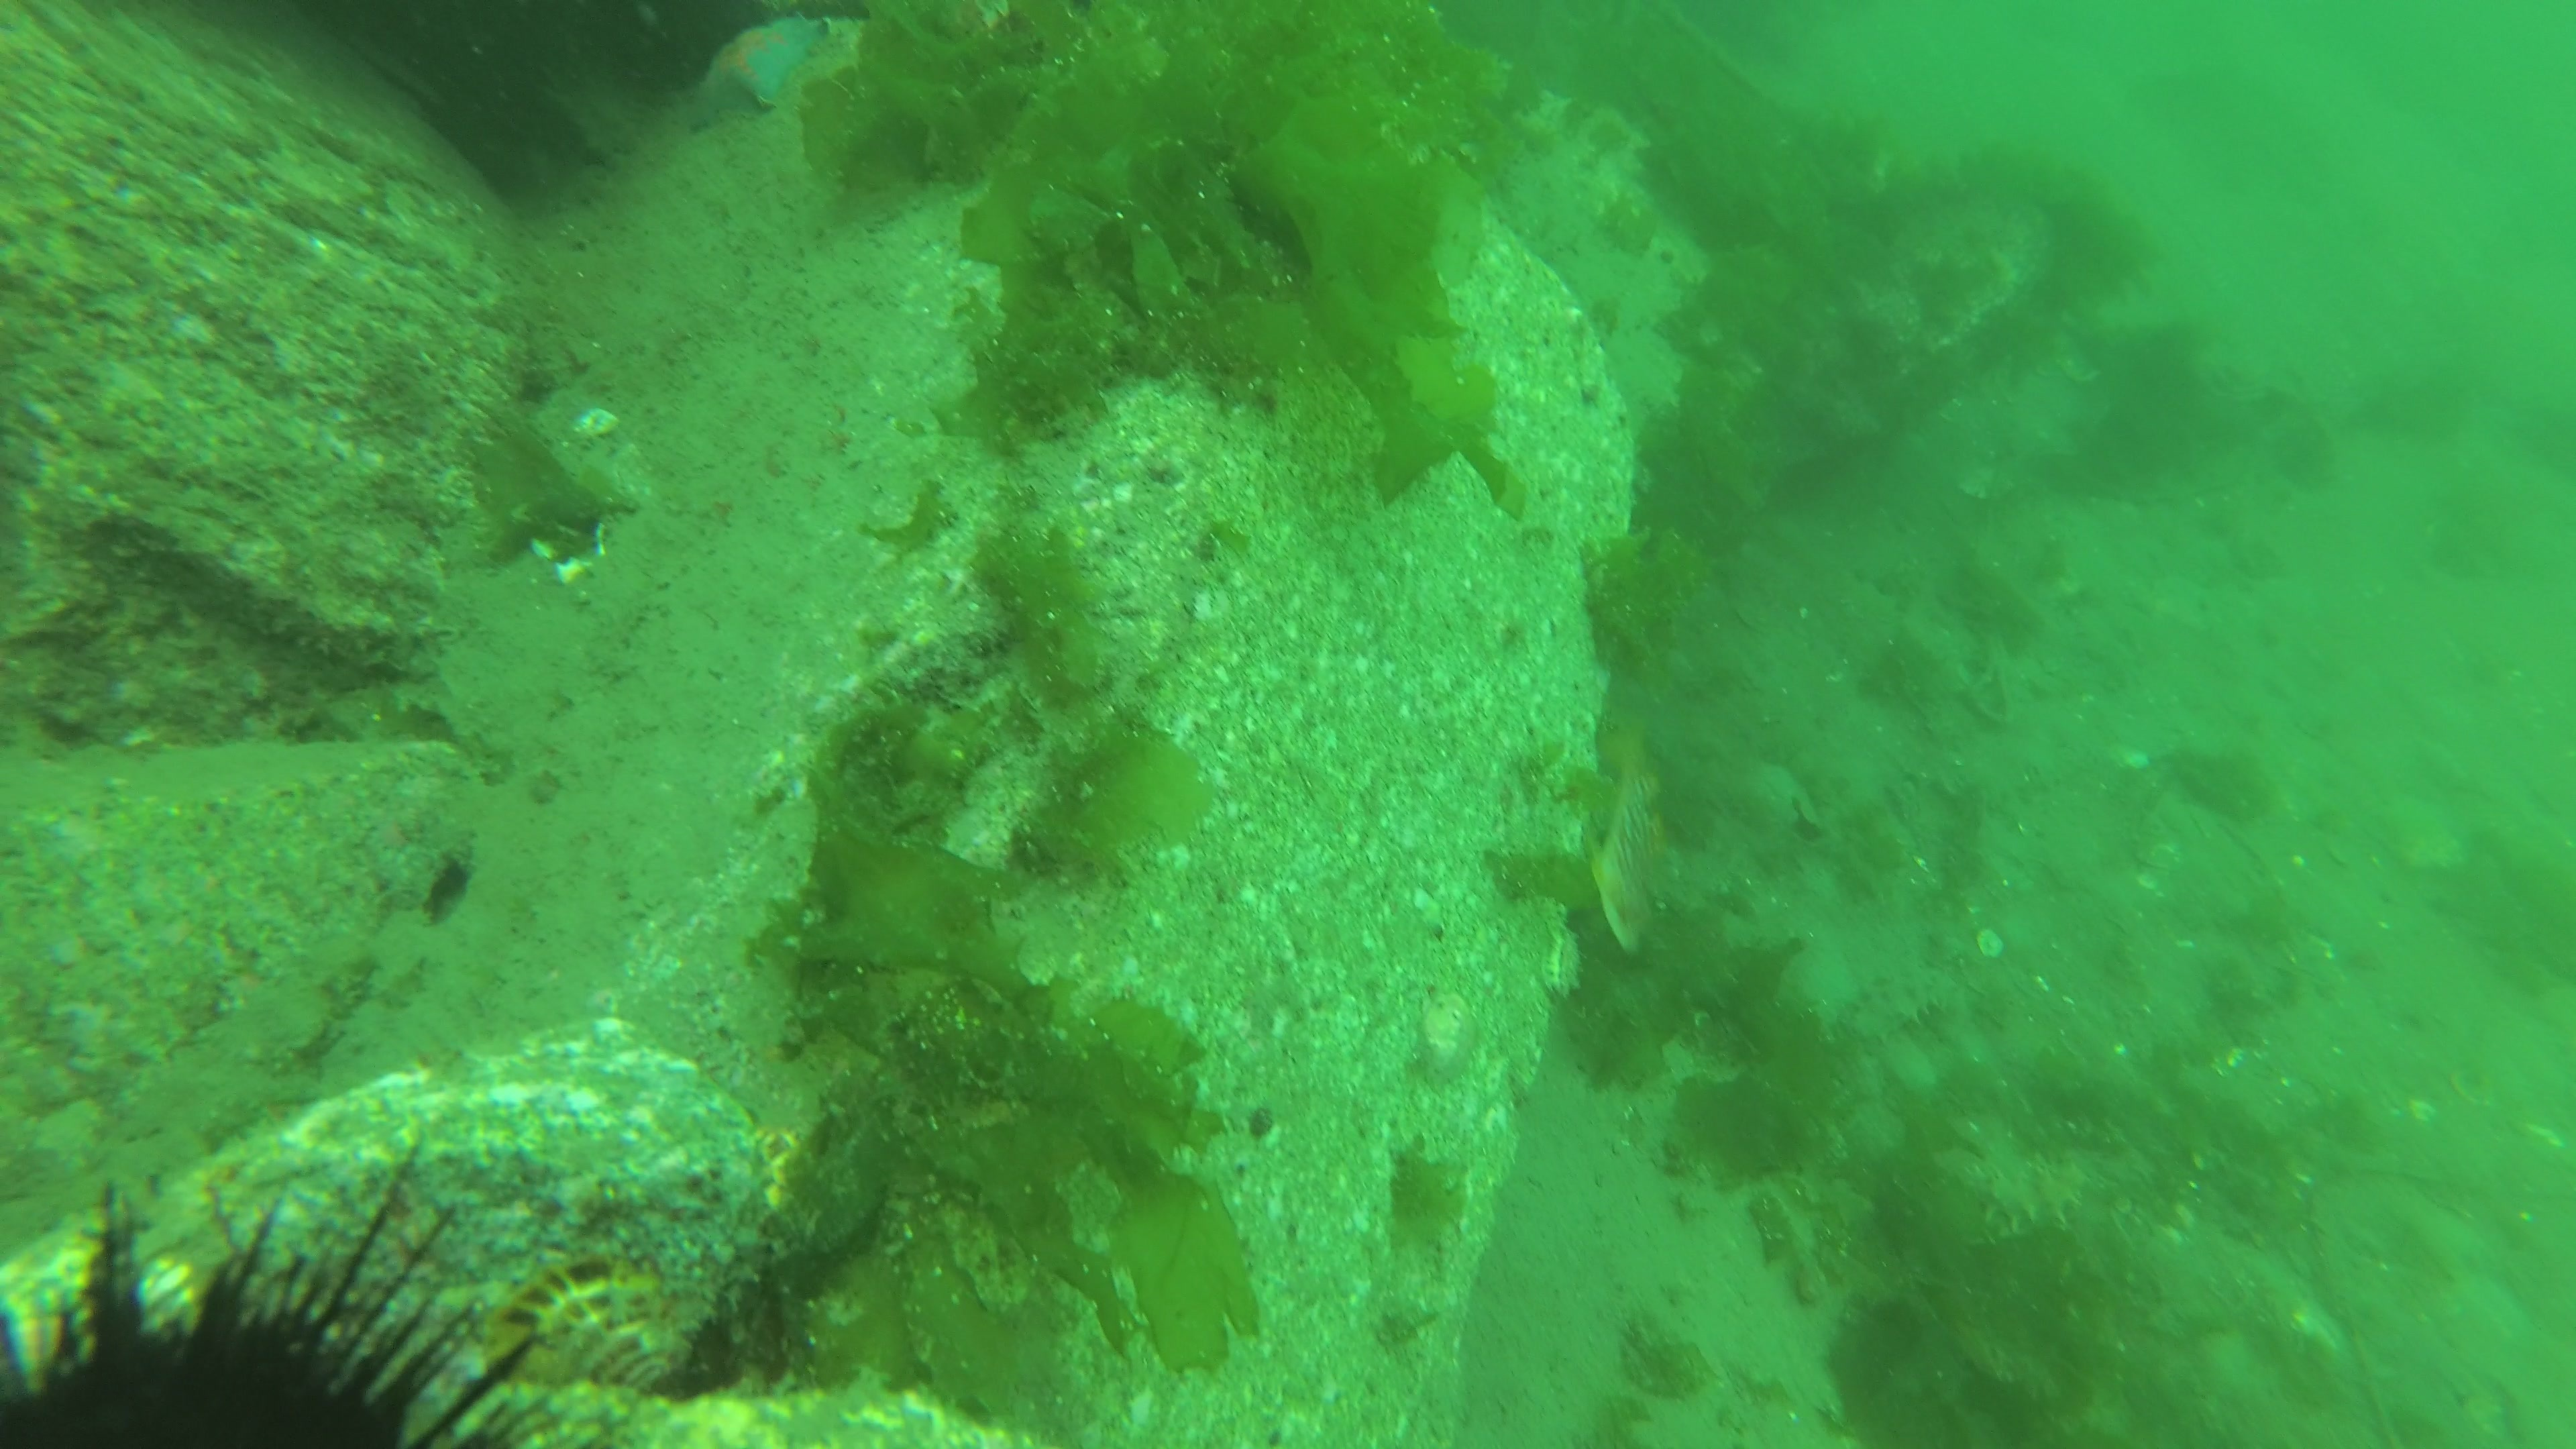echinus: (2, 1148, 566, 1449)
holothurian: (1969, 1150, 2097, 1233), (1849, 966, 1962, 1046)
starfish: (686, 9, 839, 131)
